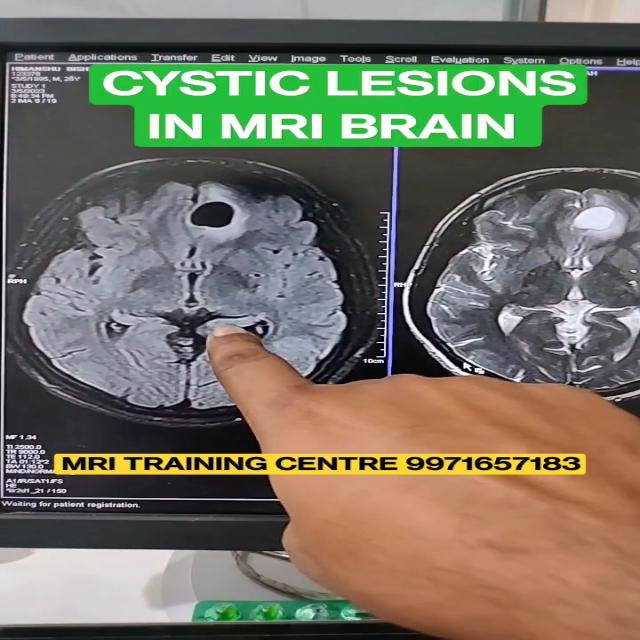tumor: (152, 190, 289, 240), (537, 187, 640, 240)
